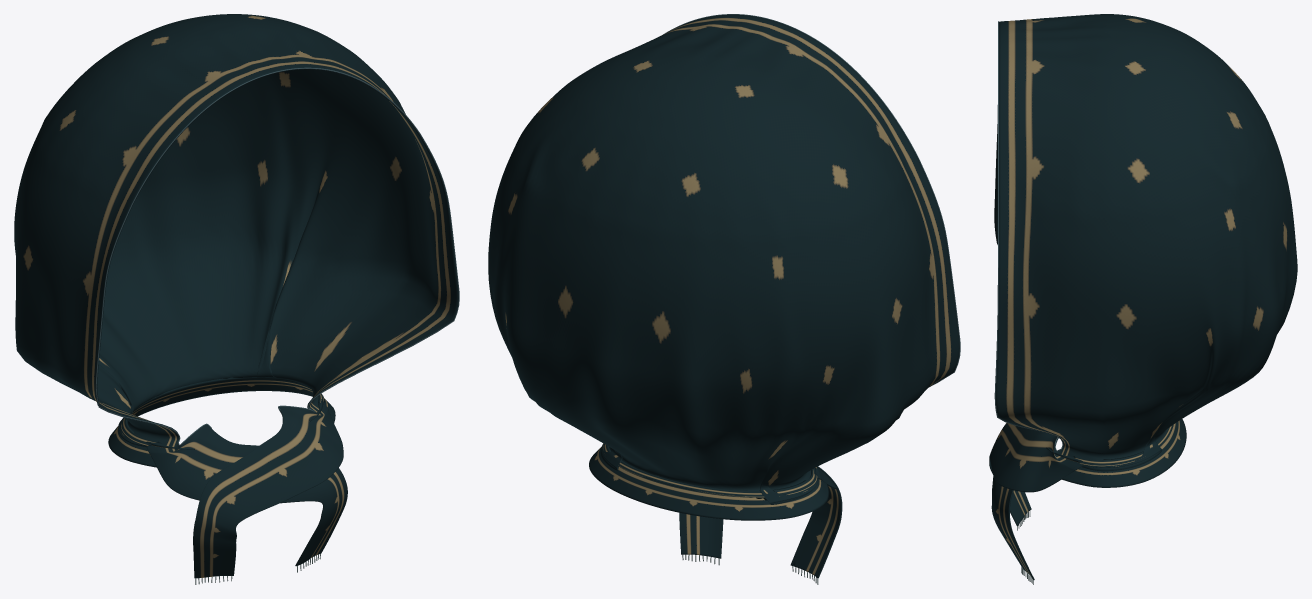
Rendered from Feminine-open-pashmina238-headgear.glb.
3 renders of one model, left to right at view 1: azimuth 30°, elevation 25°; view 2: azimuth 150°, elevation 25°; view 3: azimuth 270°, elevation 25°, orthographic. The views are drawn at different scales.
Visible parts, largest first — view 1: 226 headgear / Headwear / continuous woven pashmina238, 226 headgear / Headwear / face edge238; view 2: 226 headgear / Headwear / continuous woven pashmina238, 226 headgear / Headwear / face edge238; view 3: 226 headgear / Headwear / continuous woven pashmina238, 226 headgear / Headwear / face edge238.
Boxes of the visible parts, x1,y1,x2,y2 form: 226 headgear / Headwear / continuous woven pashmina238: (14, 14, 458, 578); 226 headgear / Headwear / face edge238: (95, 67, 459, 445); 226 headgear / Headwear / continuous woven pashmina238: (488, 14, 959, 578); 226 headgear / Headwear / face edge238: (663, 14, 960, 387); 226 headgear / Headwear / continuous woven pashmina238: (989, 14, 1297, 579); 226 headgear / Headwear / face edge238: (994, 21, 1063, 451).
Size of the model in its own units: 1.02 by 1.35 by 0.7234.
3 materials, 1 textured.
